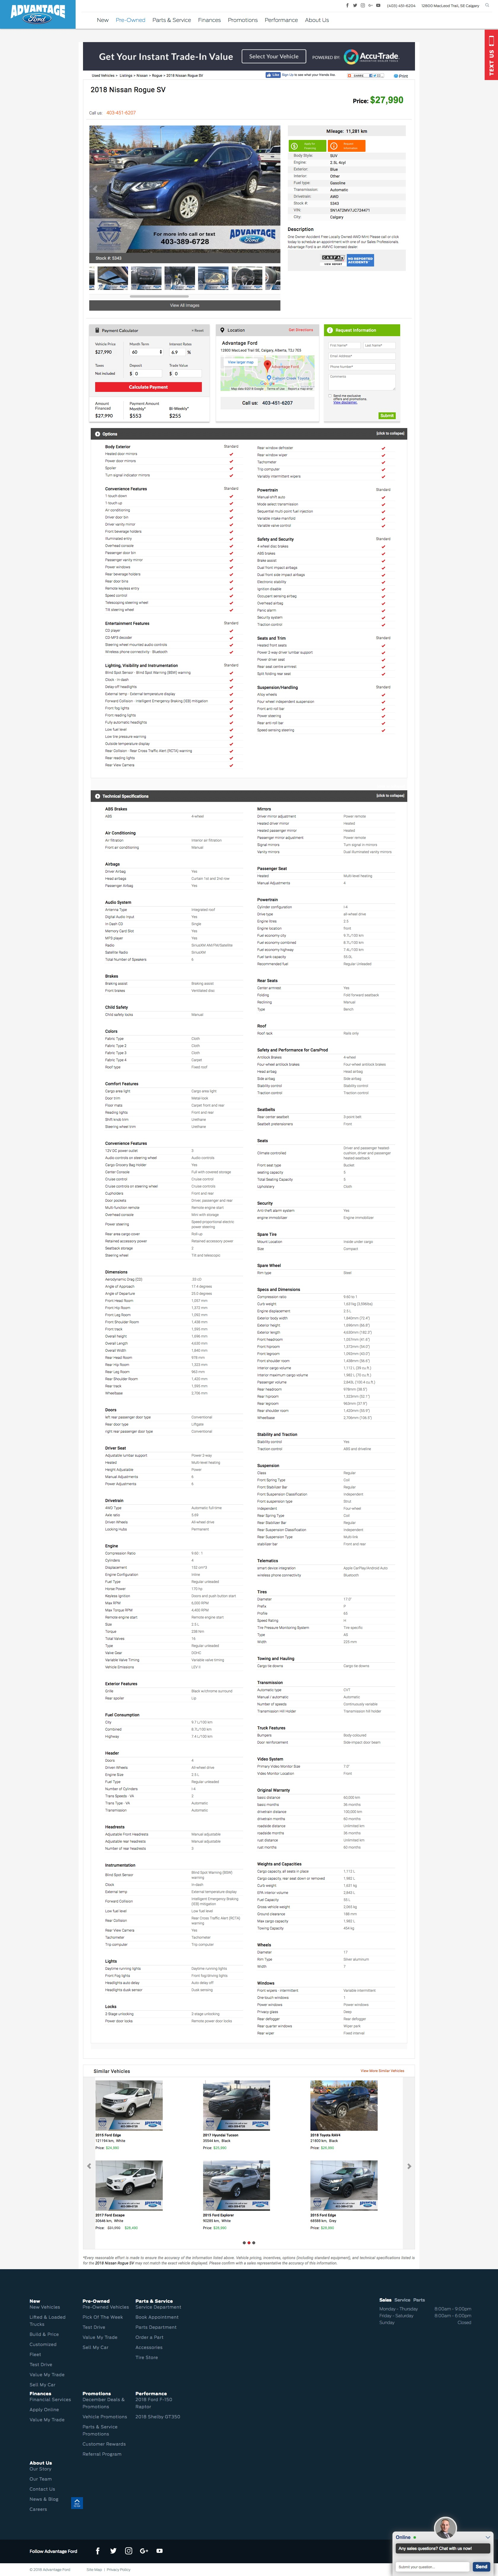car: (268, 182, 281, 195)
